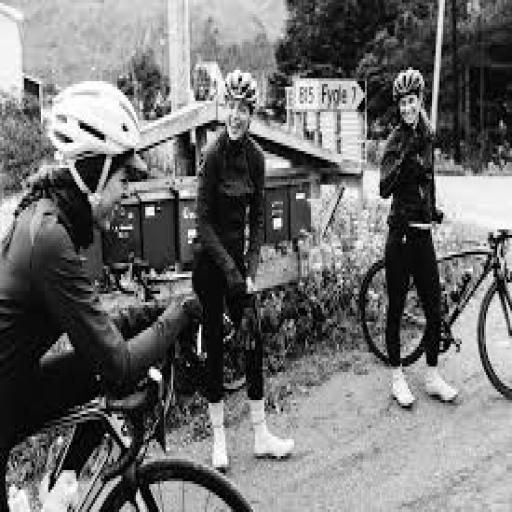cycling: (0, 76, 205, 509), (190, 67, 298, 476), (376, 64, 462, 412)
